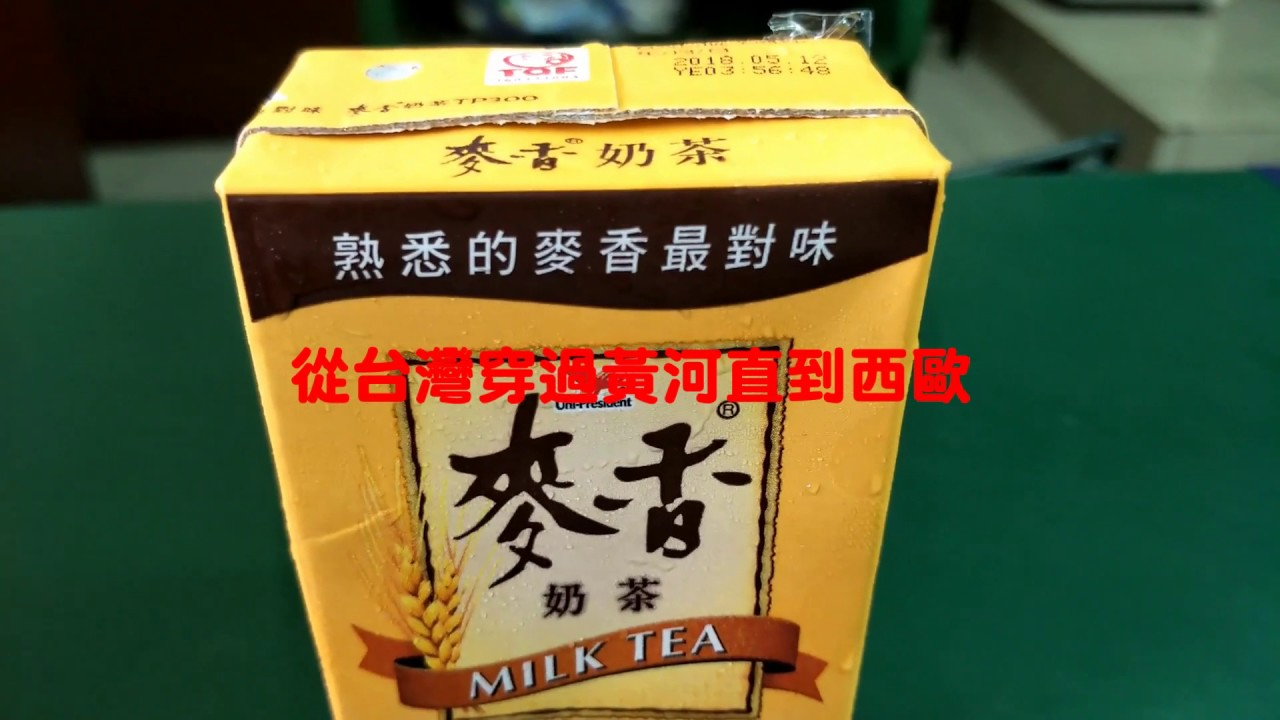milk tea: (212, 39, 960, 720)
